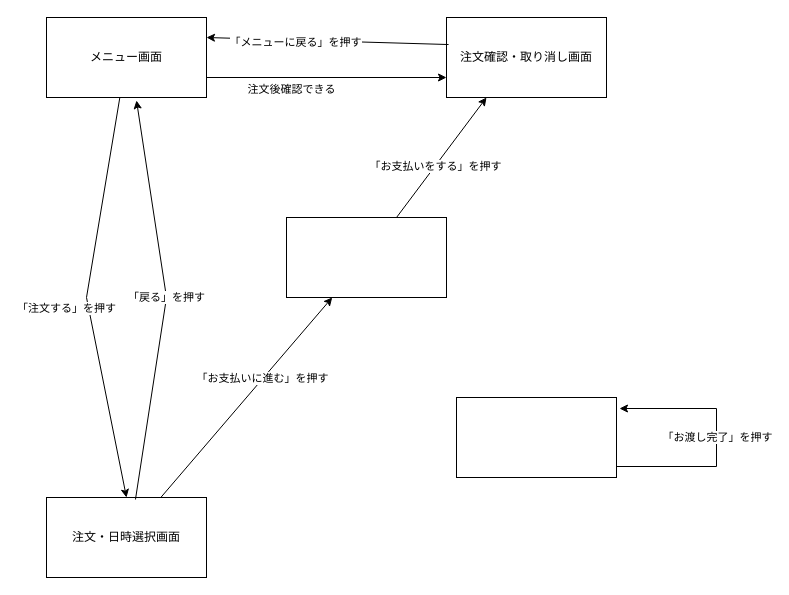
The diagram is 789 pixels wide and 595 high, and some of its shapes have lost their labels. Here are the shapes that lost their labels. From the top down, the centre of each, then its label:
At (x=366, y=257): "決算画面".
At (x=536, y=437): "予約確認 お渡し確認画面".
